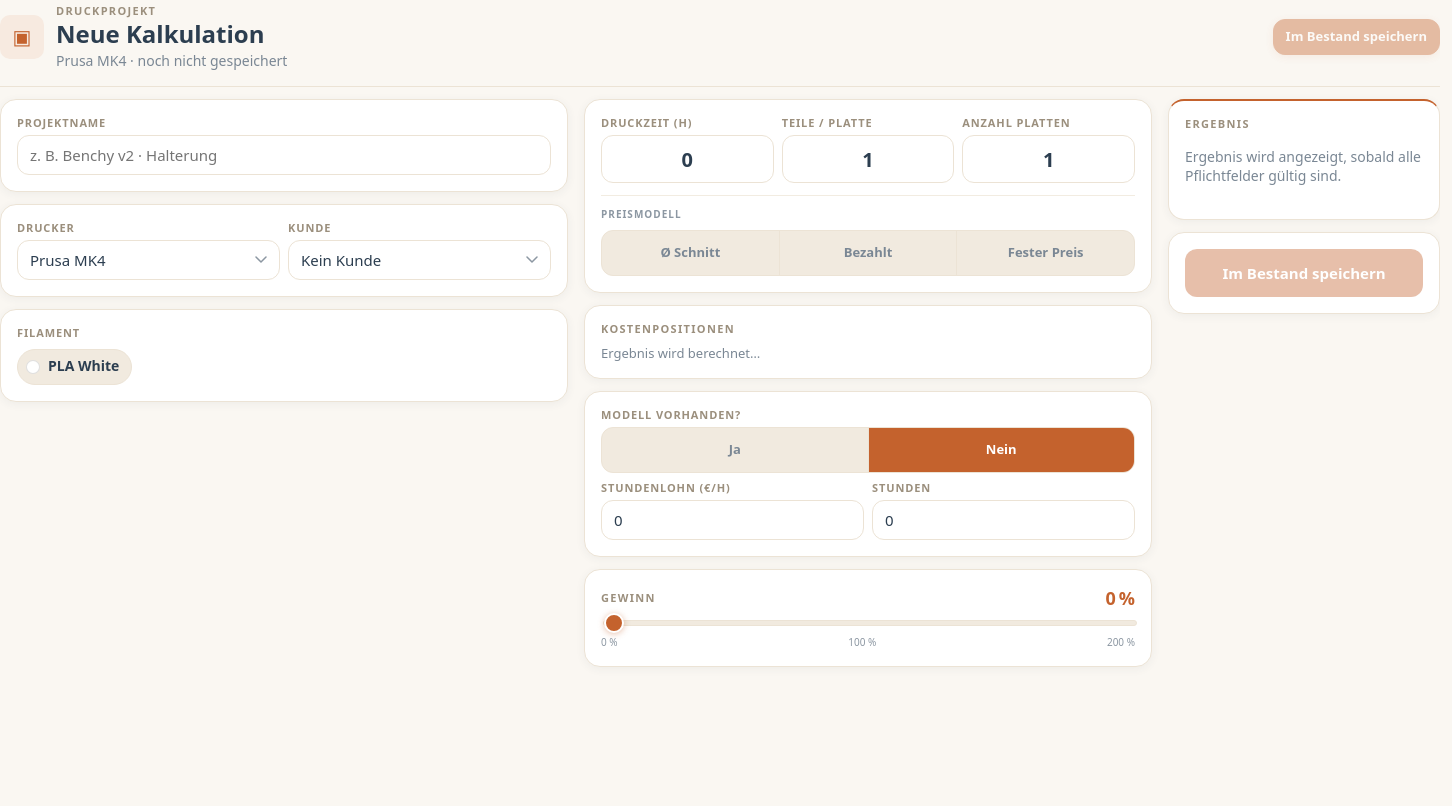
Scenario: CalculateComponent › saves planned calculation with German success feedback
Type "Halterung" into the field with test id "project-name". click: (284, 155)
box: [17,135,551,175]
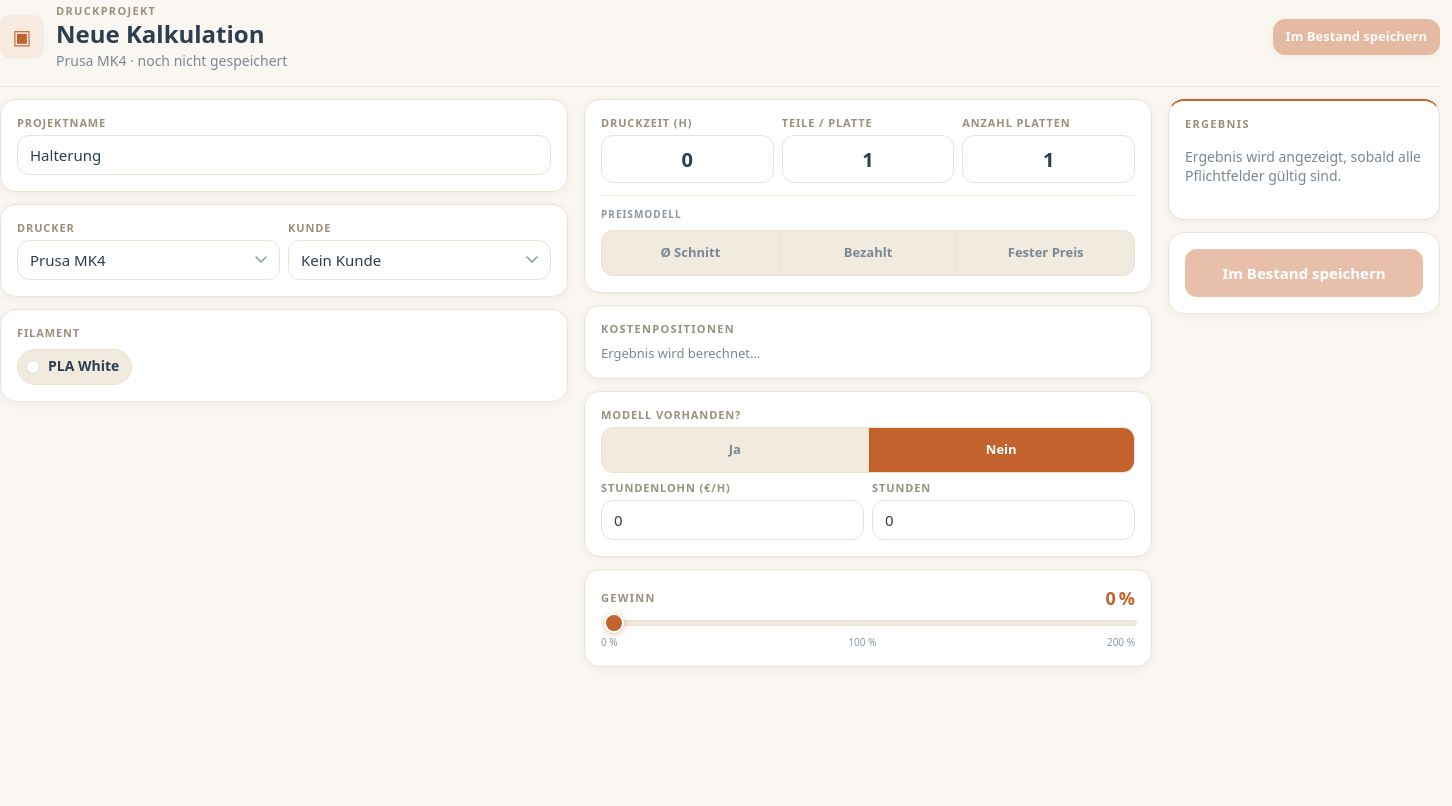
Replace the text in the number field with test id "print-hours" with "2". click: (687, 159)
box: [601,135,774,183]
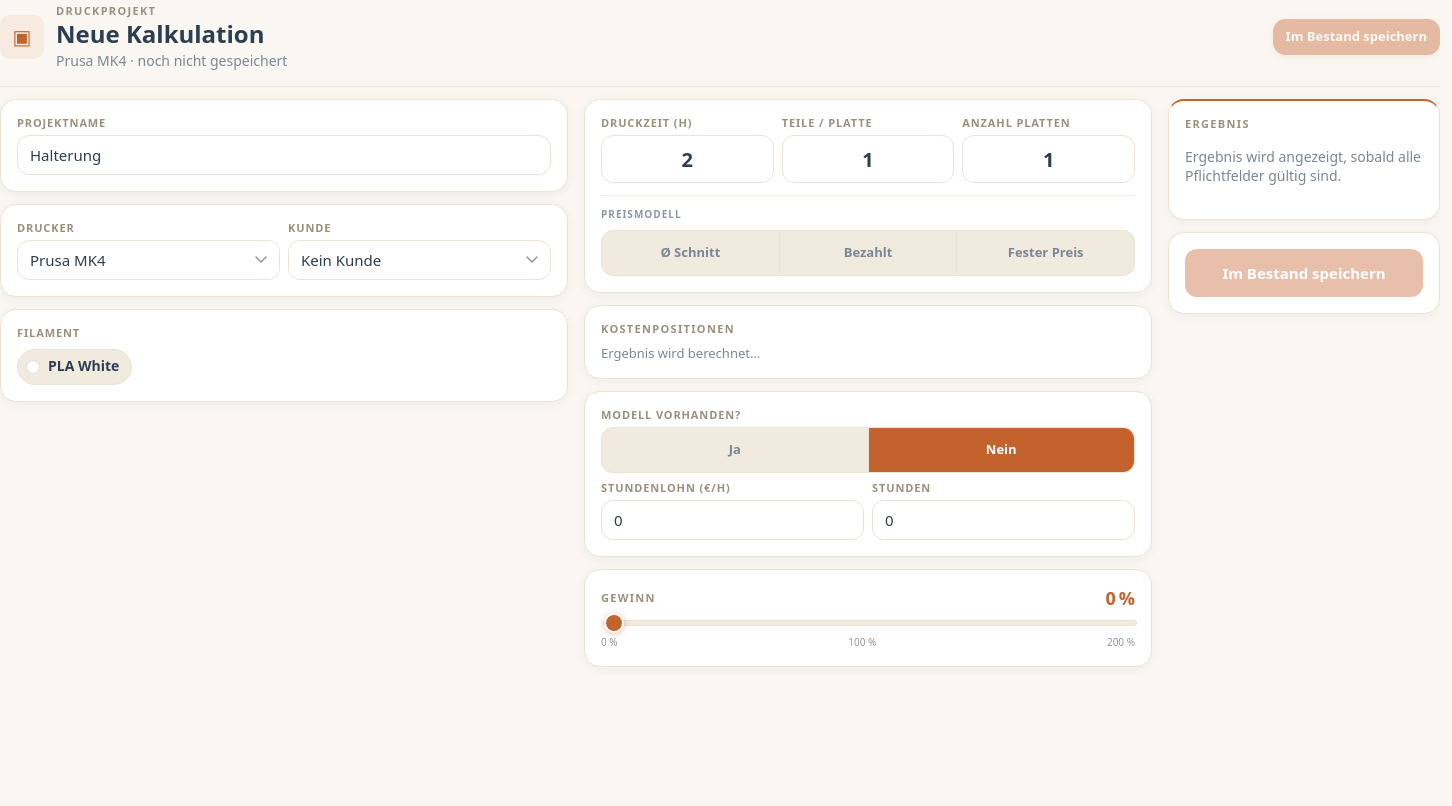
Click the button with test id "filament-chip". click: (75, 367)
box: [17,349,132,385]
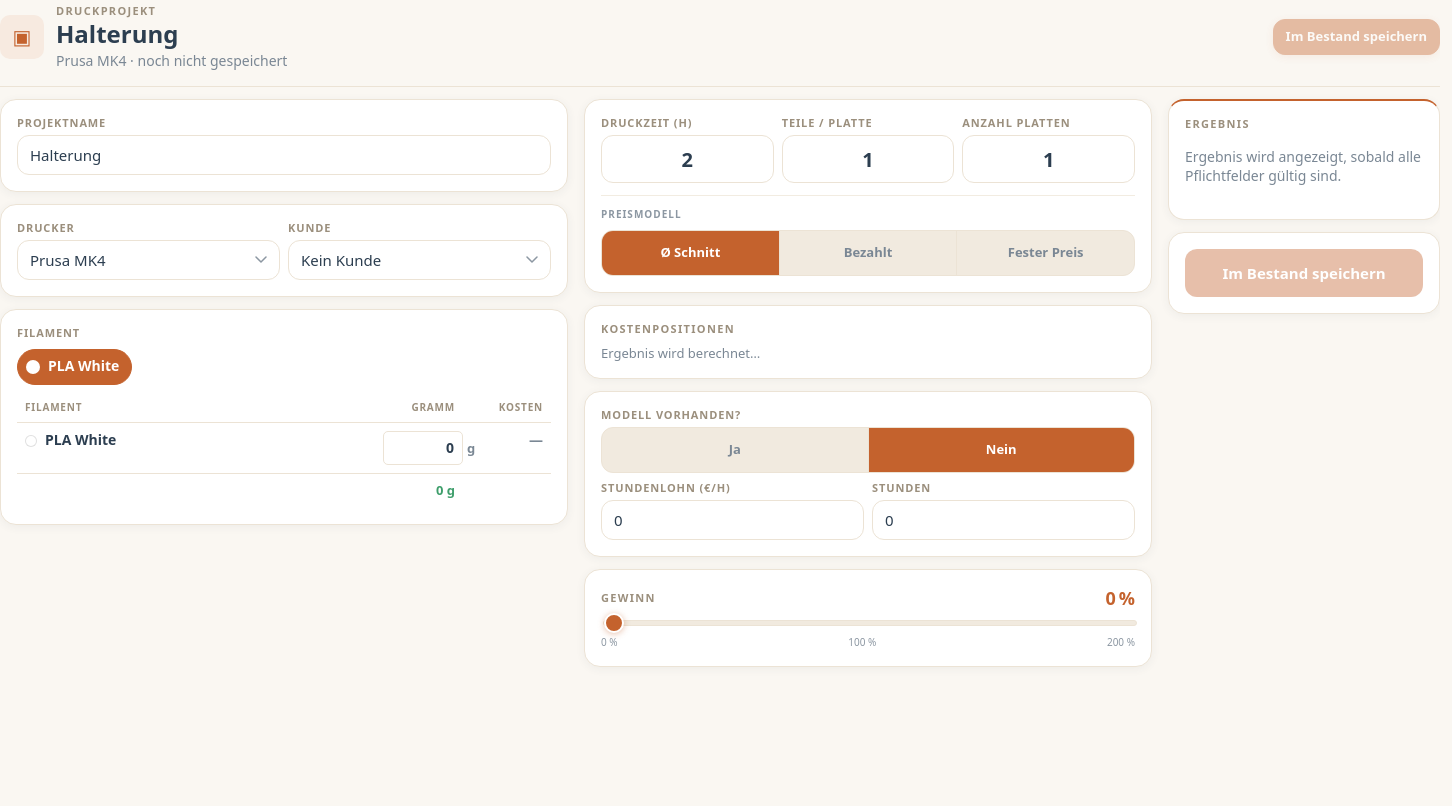
Replace the text in the number field with test id "filament-grams" with "10". click: (423, 448)
box: [383,431,463,465]
(page scrolled)
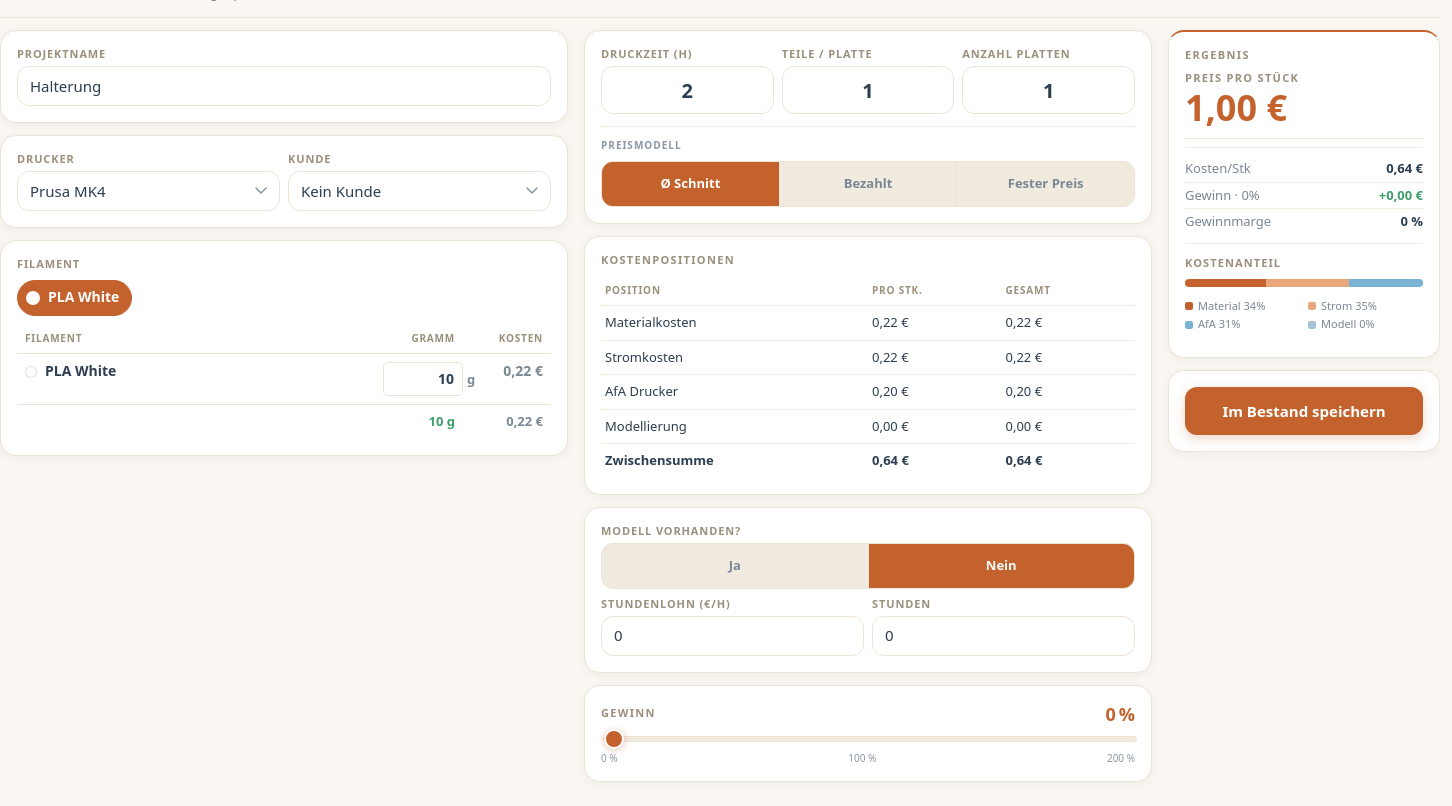
Submit the form
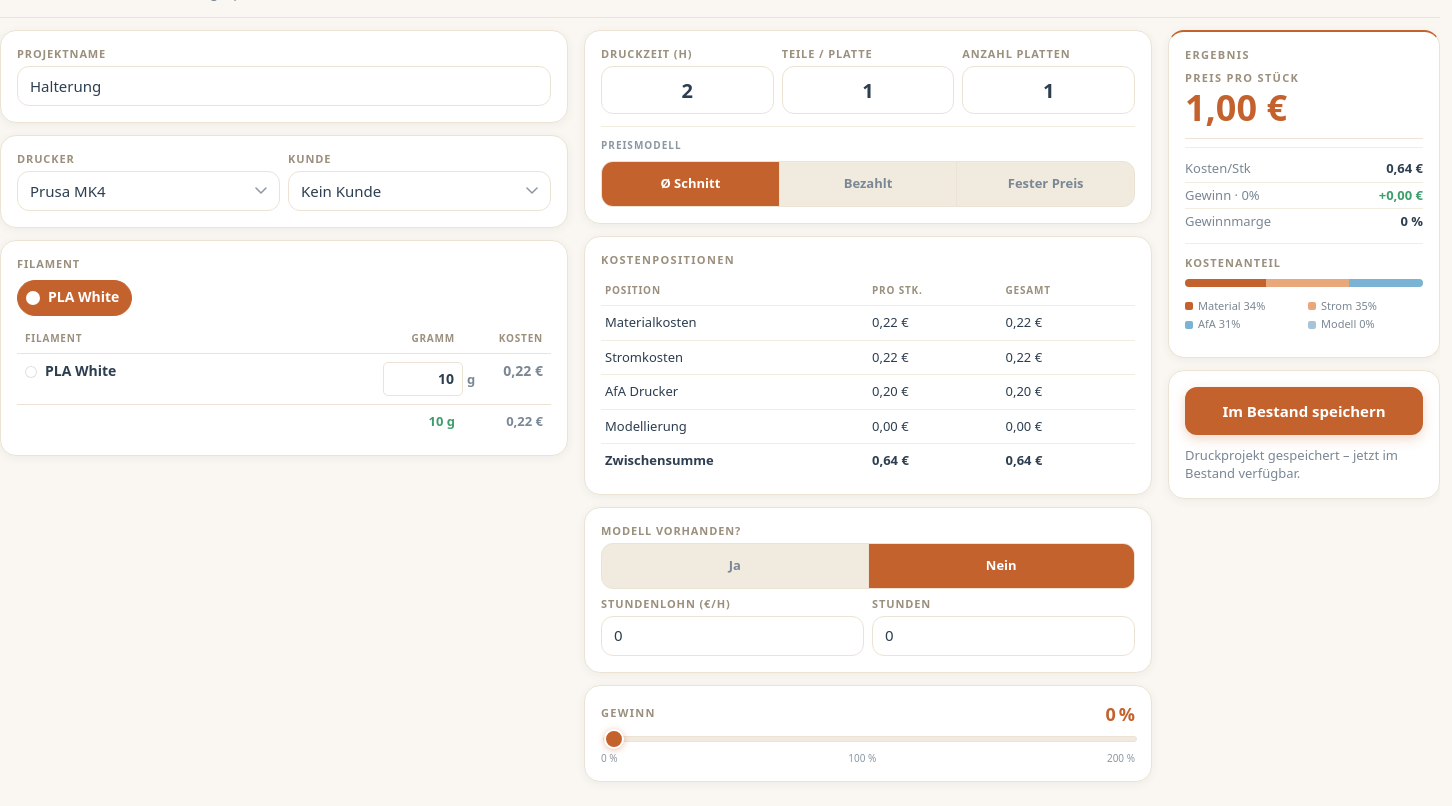
Expected: the text "Druckprojekt gespeichert" is shown, [1185,446,1398,482]
